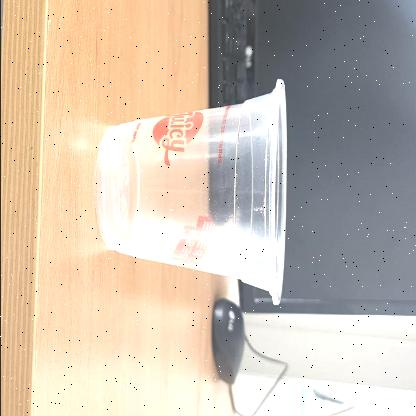Others: (97, 79, 288, 309)
